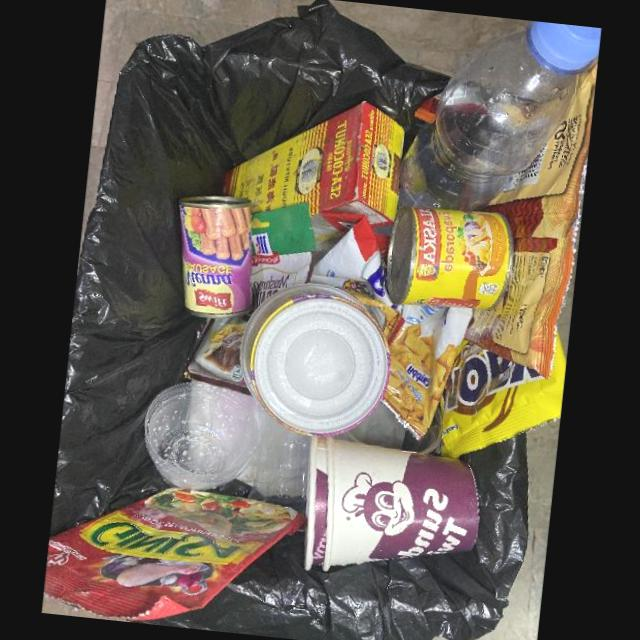bao_bi_thuc_pham: (464, 63, 596, 379), (312, 212, 474, 442), (44, 488, 308, 622), (181, 201, 313, 395), (440, 327, 566, 457)
carton: (223, 99, 404, 253), (304, 437, 479, 572)
chai_nhua: (240, 285, 389, 436), (142, 384, 260, 487)
chai_nhua_pet: (401, 21, 601, 210)
nhom: (387, 204, 513, 311), (178, 195, 252, 318)
